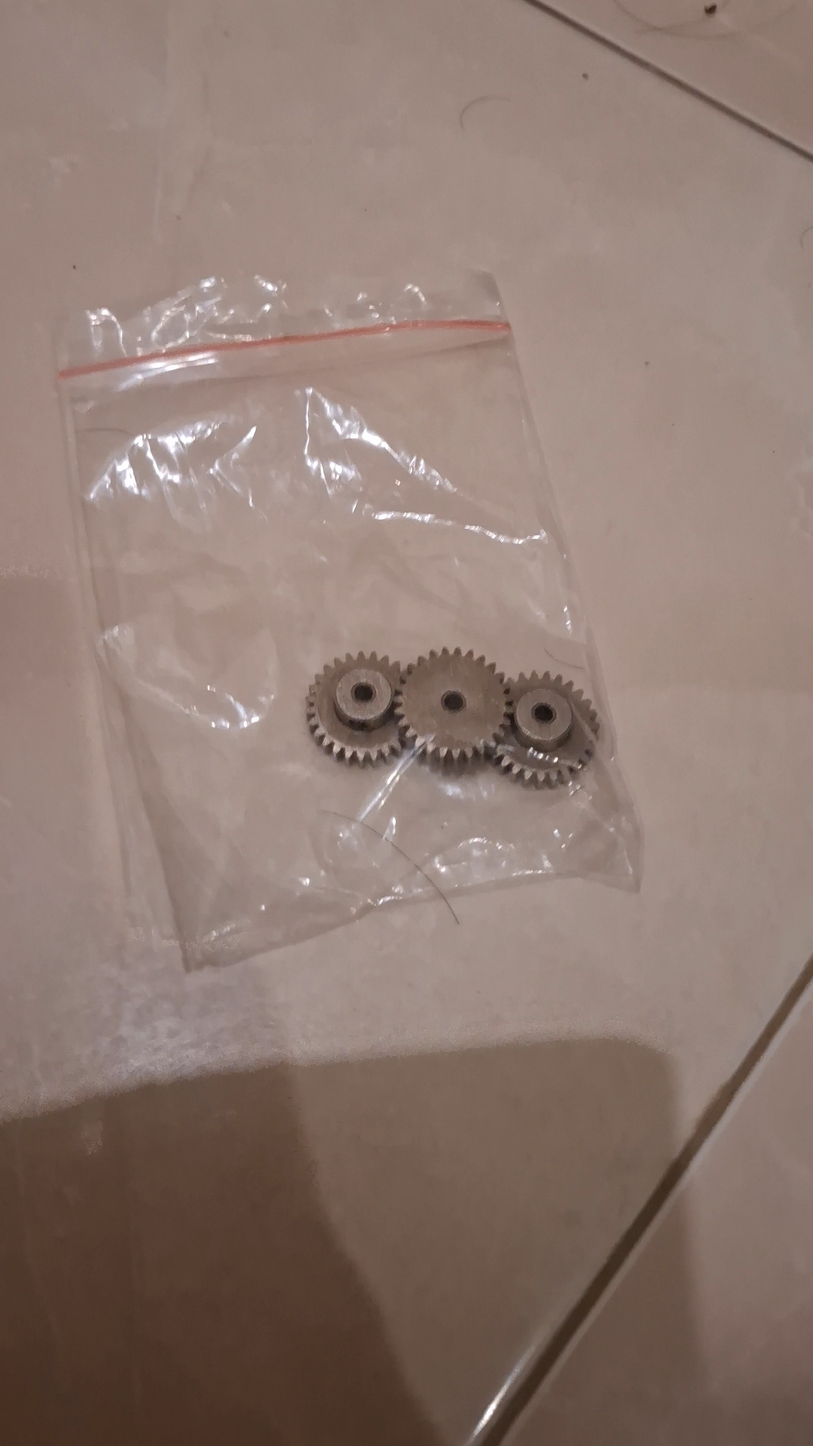spur gear: (486, 668, 601, 786), (301, 651, 414, 768), (396, 647, 508, 764)
